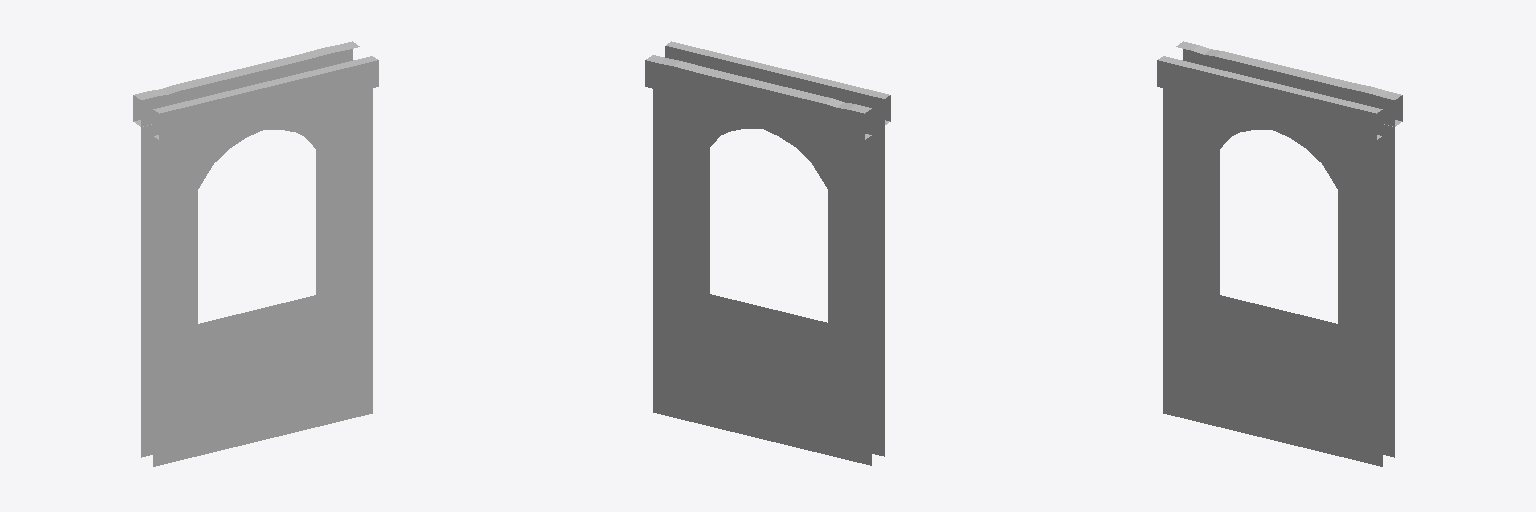
The model's file is Wall_UnevenBrick_Window_Wide_Round.obj.
The picture shows the model from 3 angles: view 1: azimuth 30°, elevation 25°; view 2: azimuth 150°, elevation 25°; view 3: azimuth 330°, elevation 25°; orthographic projection.
Parts seen in each view (by area): view 1: Wall_UnevenBrick_Window_Wide_Round; view 2: Wall_UnevenBrick_Window_Wide_Round; view 3: Wall_UnevenBrick_Window_Wide_Round.
Part boxes in pixels (bbox=[...]): Wall_UnevenBrick_Window_Wide_Round: bbox=[133, 41, 378, 466]; Wall_UnevenBrick_Window_Wide_Round: bbox=[645, 41, 890, 465]; Wall_UnevenBrick_Window_Wide_Round: bbox=[1157, 41, 1402, 466].
Bounding box in the file's own units: 2 × 3.12 × 0.4065.